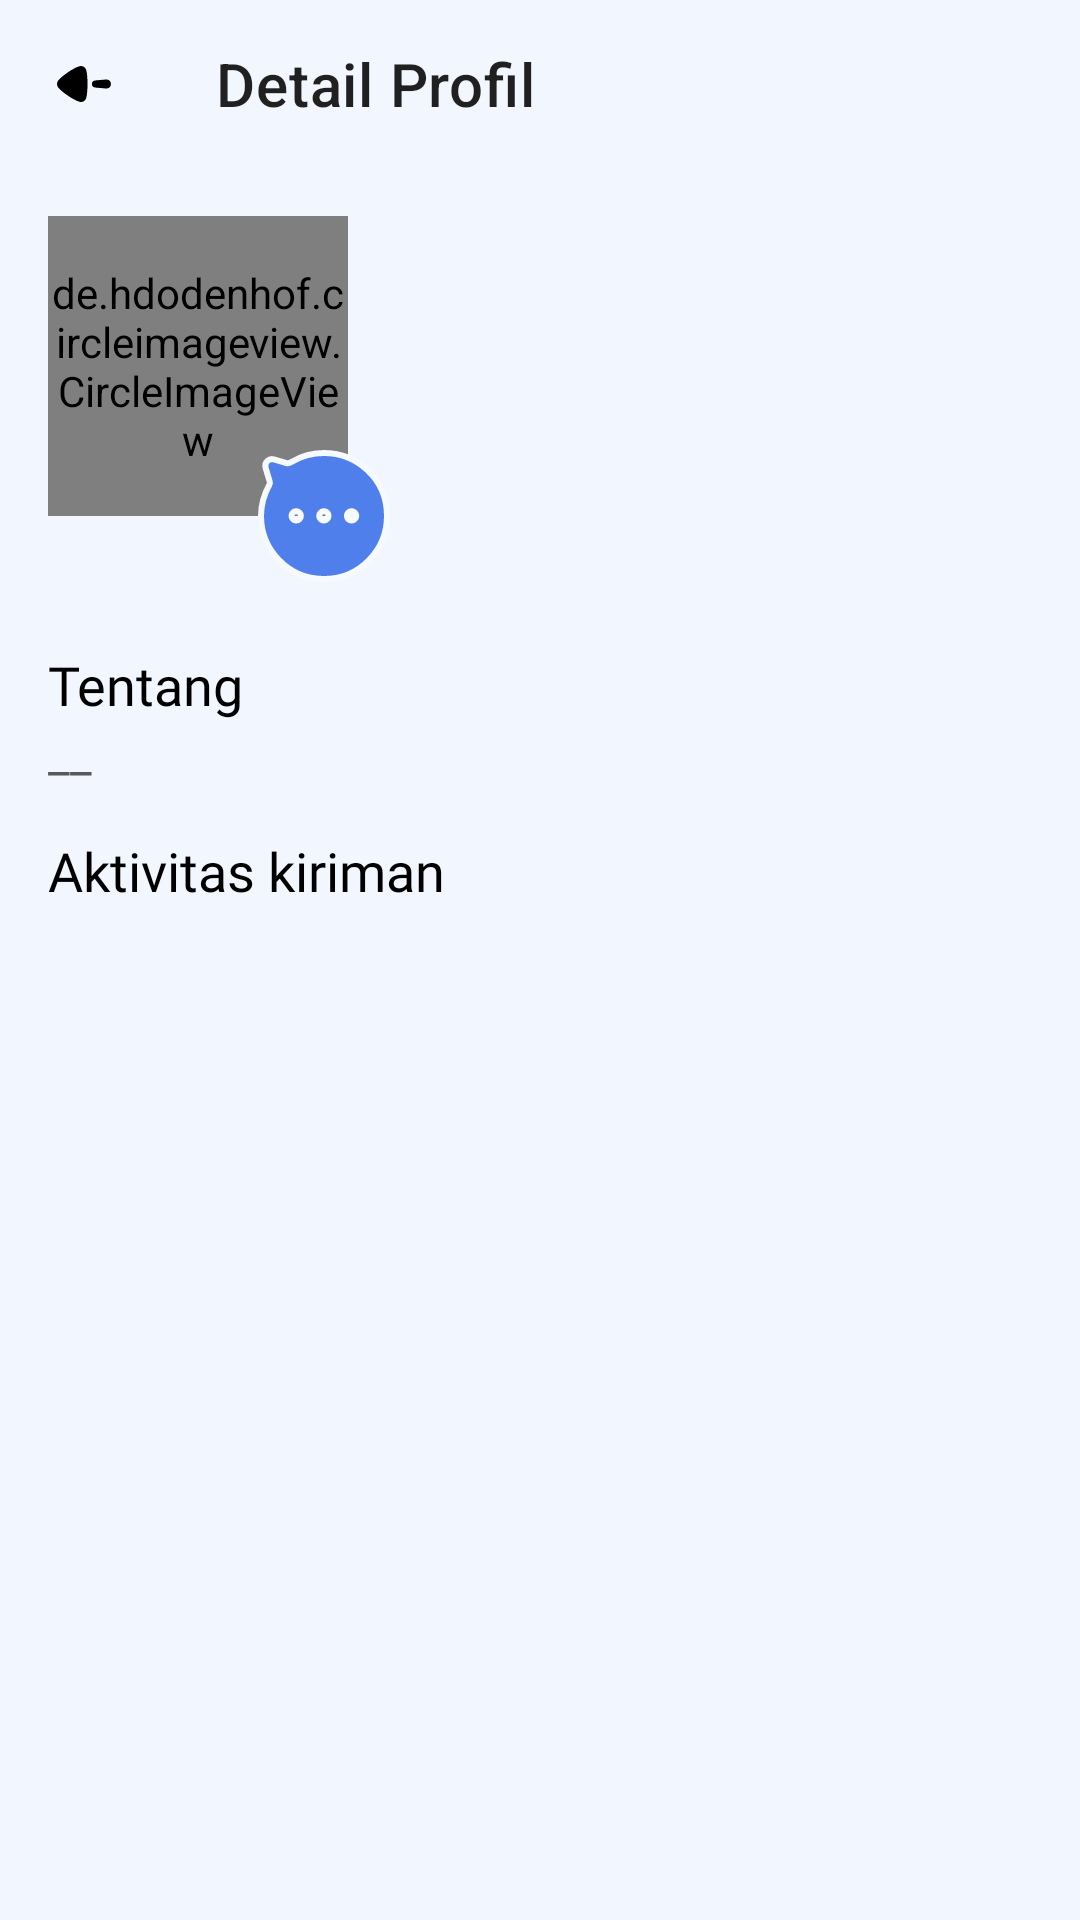

Icons on this 1080x1920 Android screen, each with its box as (x1, y1, x2, y2):
chat: (264, 456, 384, 576)
